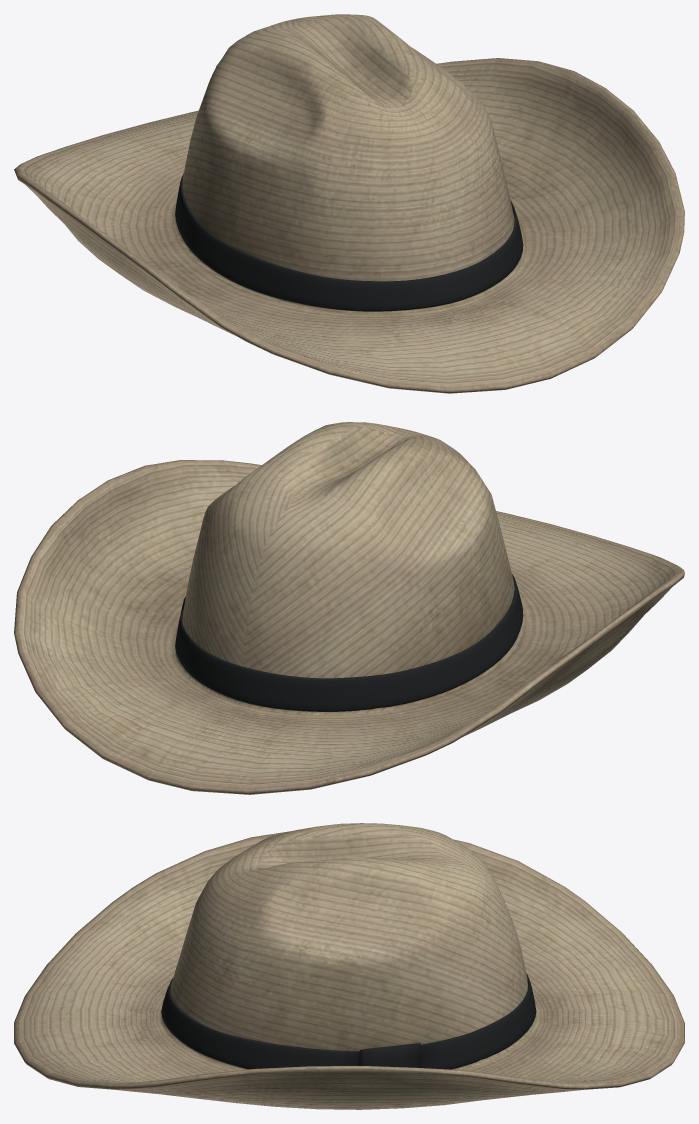
The model's file is straw_hat.glb.
3 views of the same model, one above another, from view 1: azimuth 30°, elevation 25°; view 2: azimuth 150°, elevation 25°; view 3: azimuth 270°, elevation 25° (orthographic). The views are drawn at different scales.
Visible parts, largest first — view 1: 0_Object002; view 2: 0_Object002; view 3: 0_Object002.
Boxes of the visible parts, <box> form: 0_Object002: <box>14,14,684,393</box>; 0_Object002: <box>14,422,684,794</box>; 0_Object002: <box>14,823,684,1109</box>.
Size of the model in its own units: 0.0386 by 0.0145 by 0.0455.
Materials: 1 (1 with a texture image).
